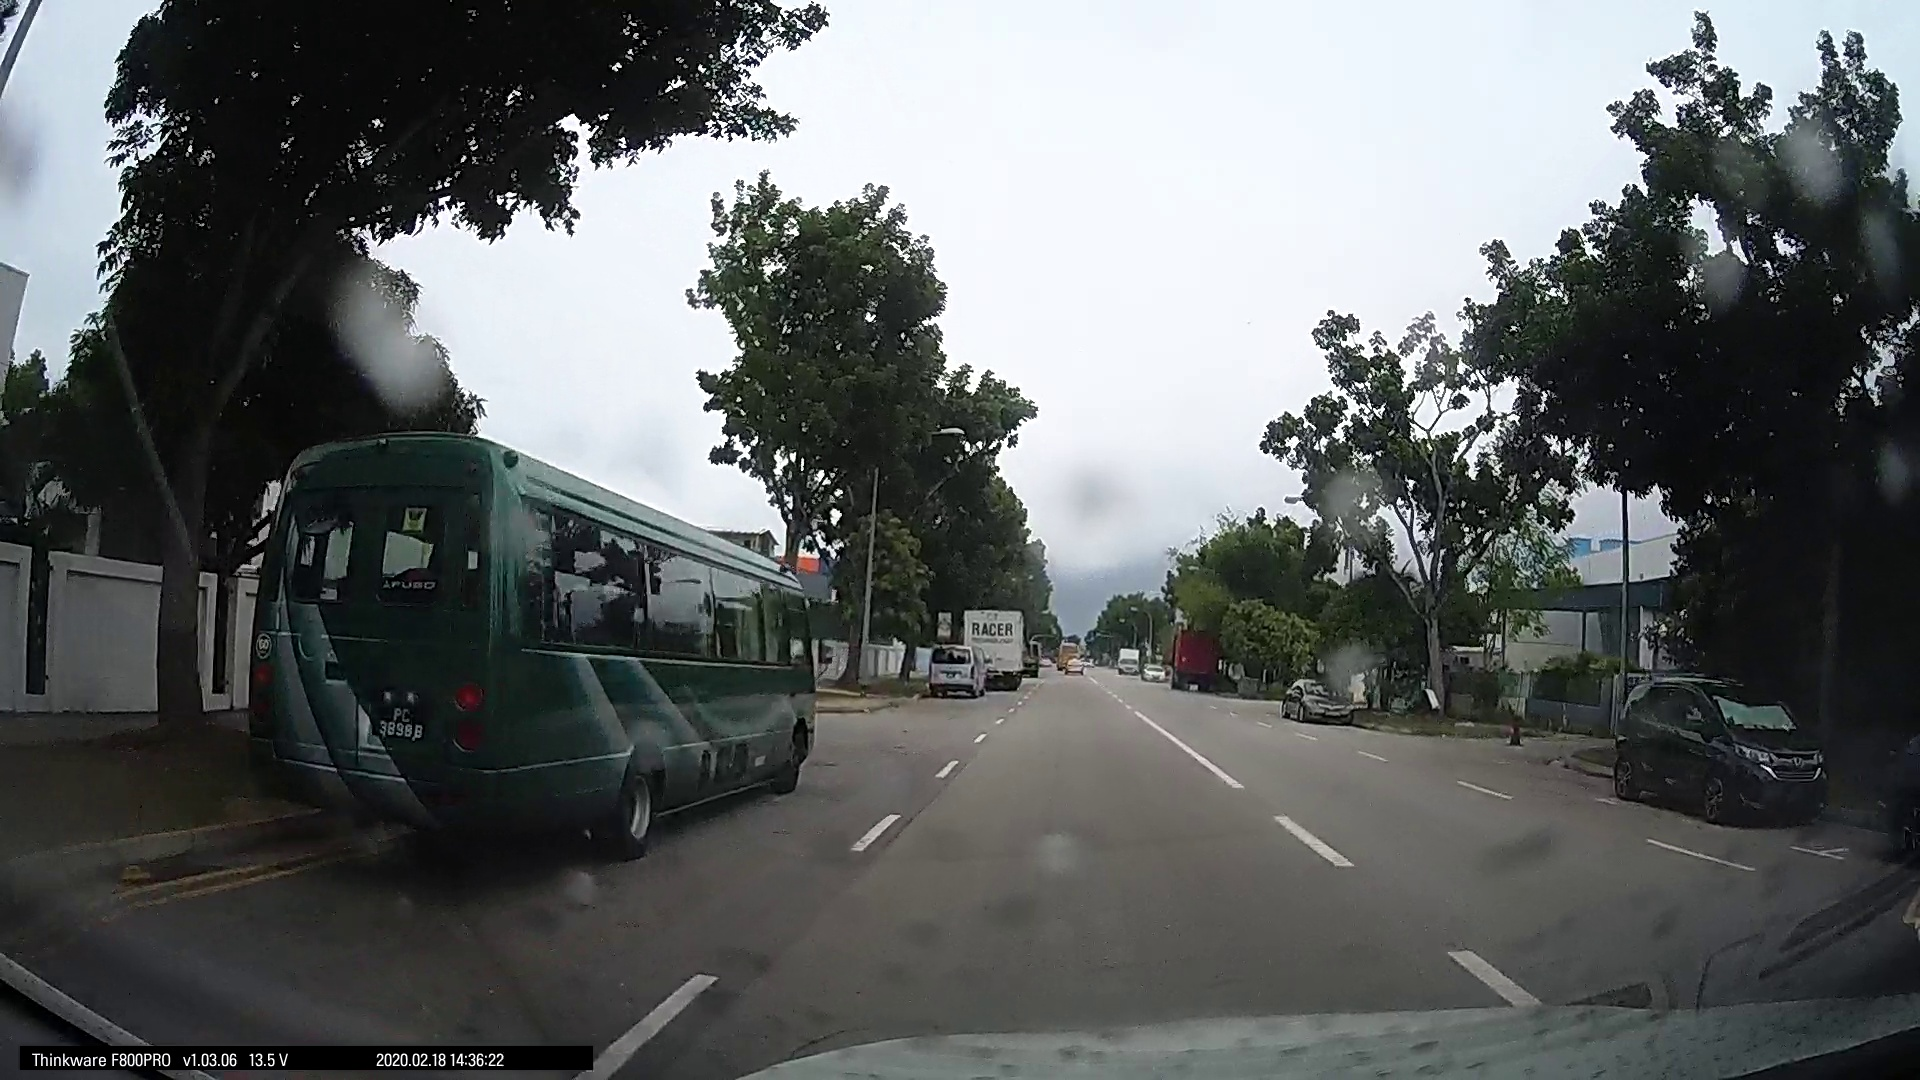Heavy Vehicle: (233, 436, 810, 874), (949, 605, 1031, 692)
Light Vehicle: (1601, 669, 1836, 831), (924, 640, 992, 698), (1278, 674, 1356, 724)
